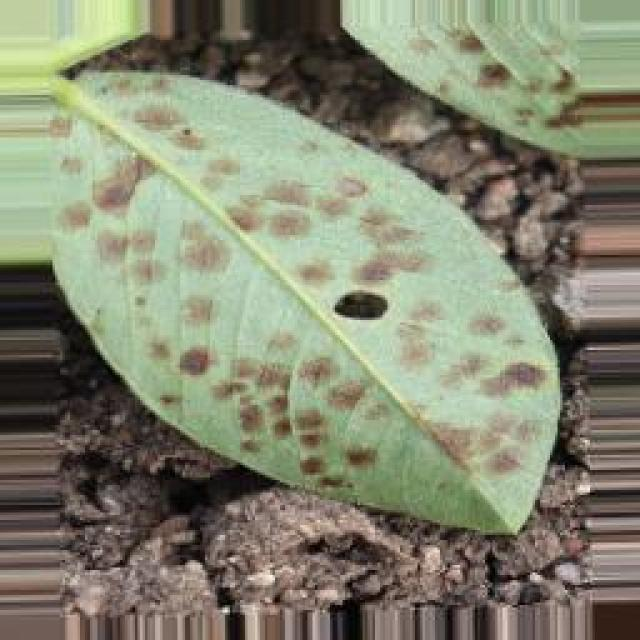Whitefly: (0, 46, 578, 551)
